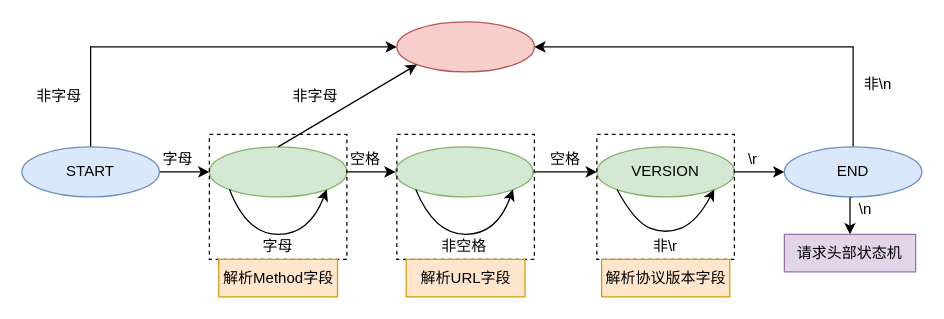
This 944x319 diagram has some shape labels left out. Here are the shapes that lost their labels. From the top down, the centre of each, then its label:
At [465,46]: "ERROR".
At [277,171]: "METHOD".
At [463,171]: "URL".
